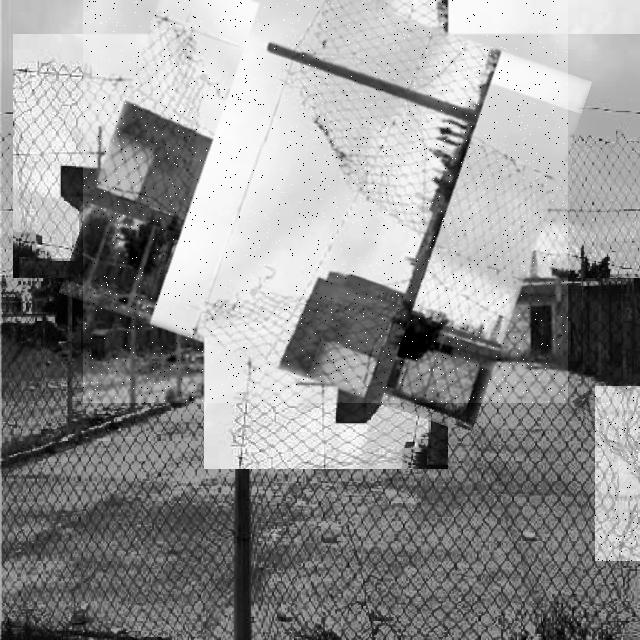anomaly-fence: (83, 0, 568, 403), (595, 386, 640, 561)
